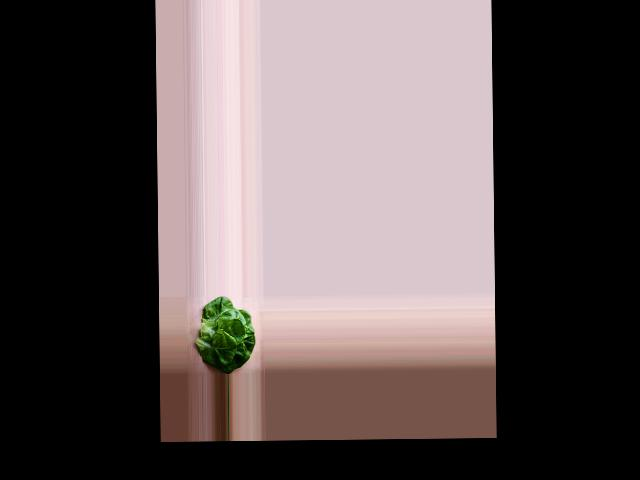lettuce: (197, 298, 255, 372)
